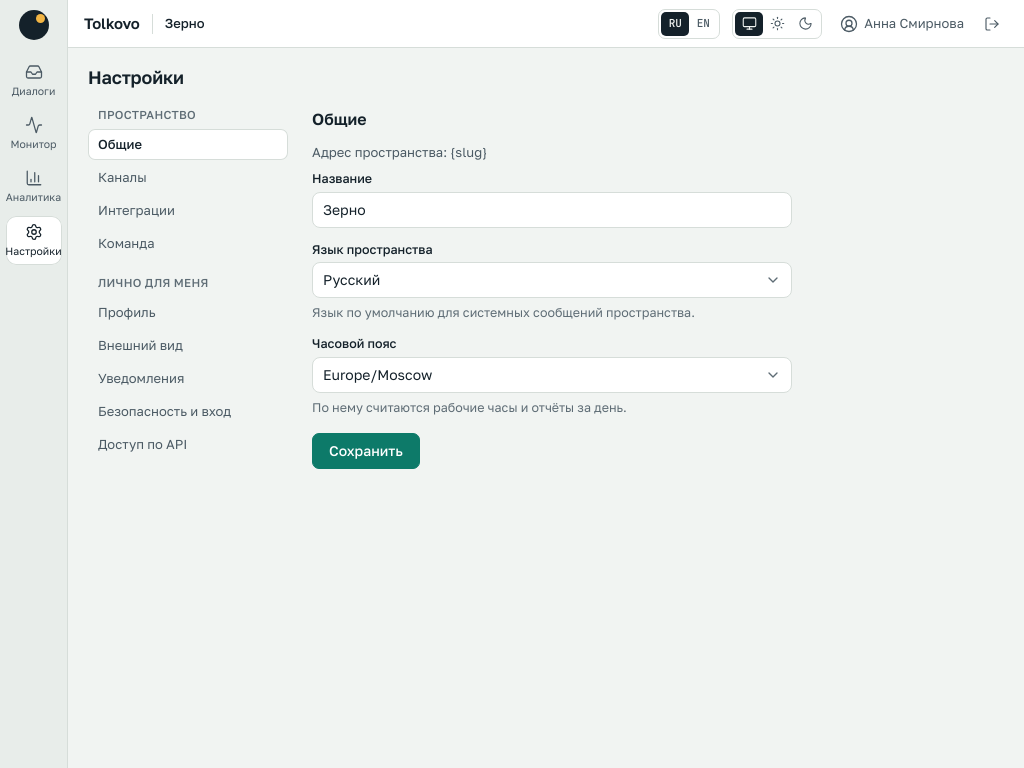
workspace settings › saves changes with PATCH /workspace and the CSRF token
The width and height of the screenshot is (1024, 768).
Replace the text in the field labelled "Название" with "Зерно и Ко": coordinates (552, 210) [312, 192, 792, 228]
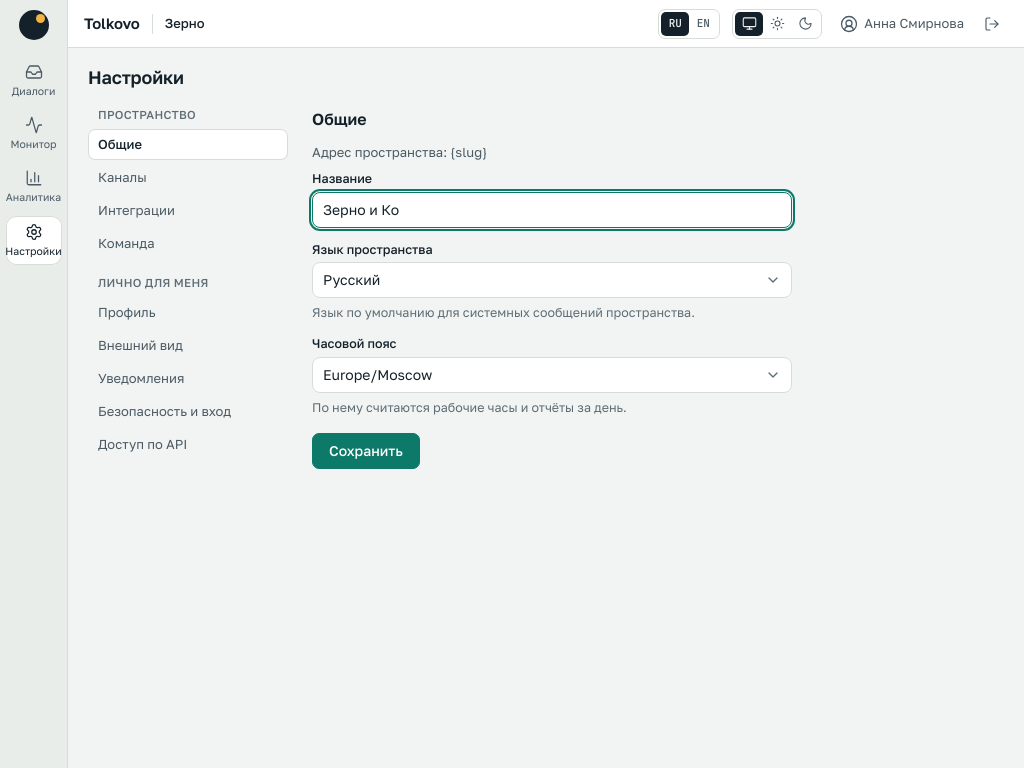
Select "English" in the dropdown labelled "Язык пространства": coordinates (552, 280) [312, 262, 792, 298]
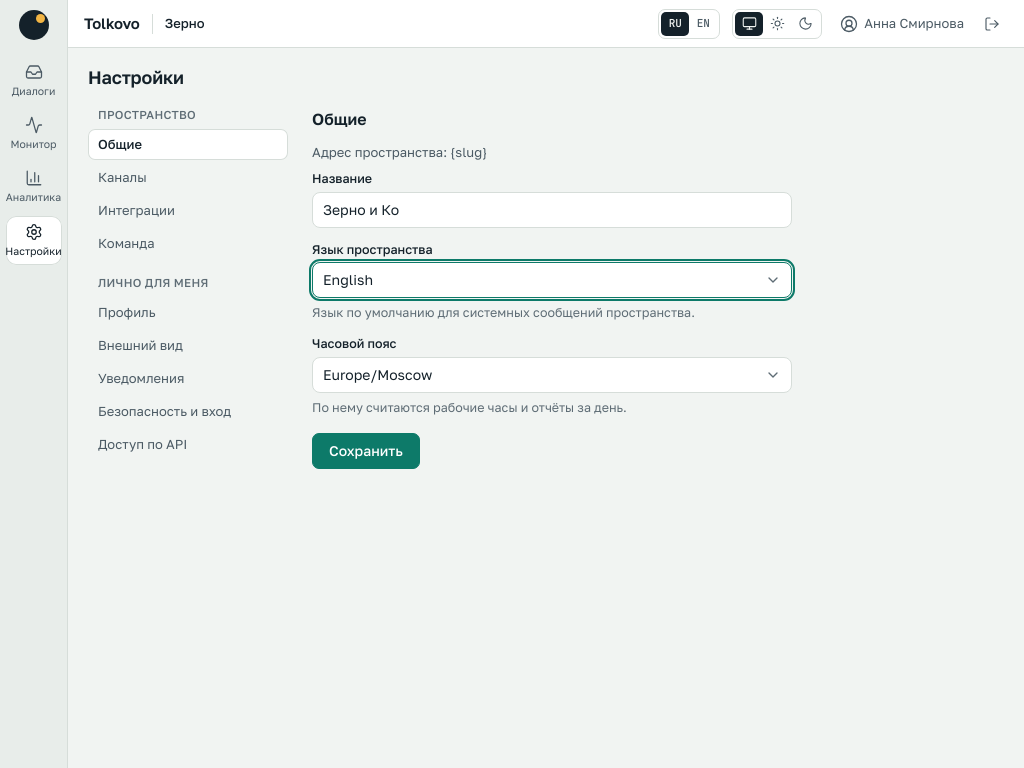
Click the button "Сохранить": coordinates (366, 451) [312, 433, 420, 469]
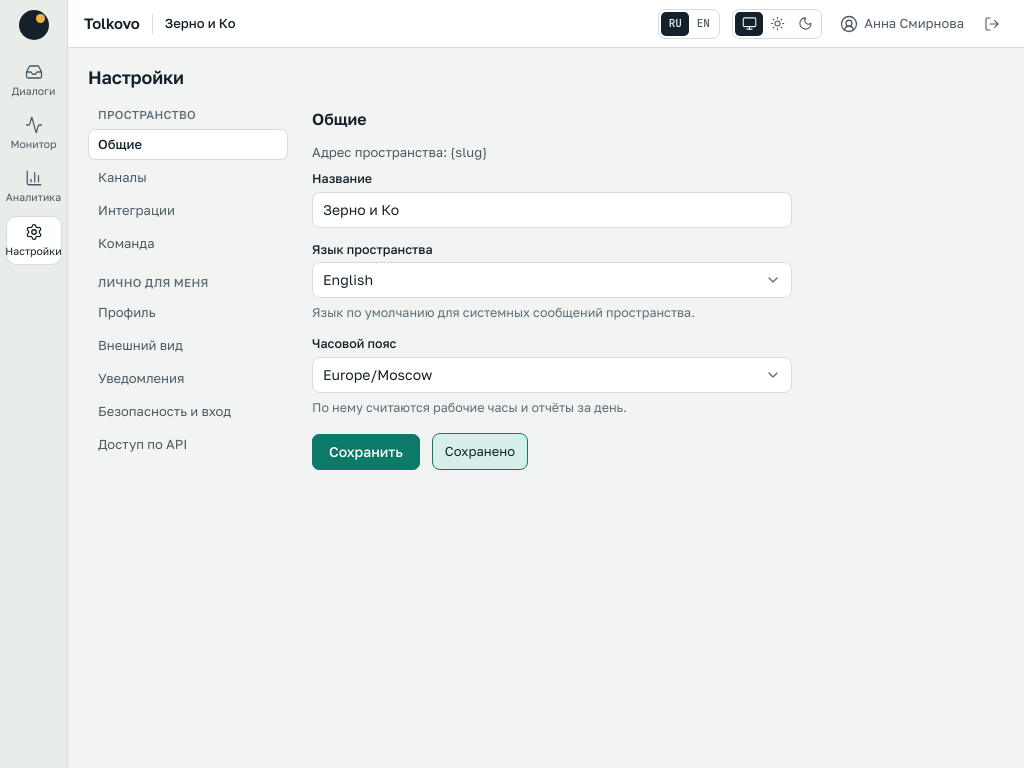
Result: the message reads "Сохранено" at [445, 443, 515, 459]
Result: the text "Зерно и Ко" is shown at [165, 14, 236, 33]
